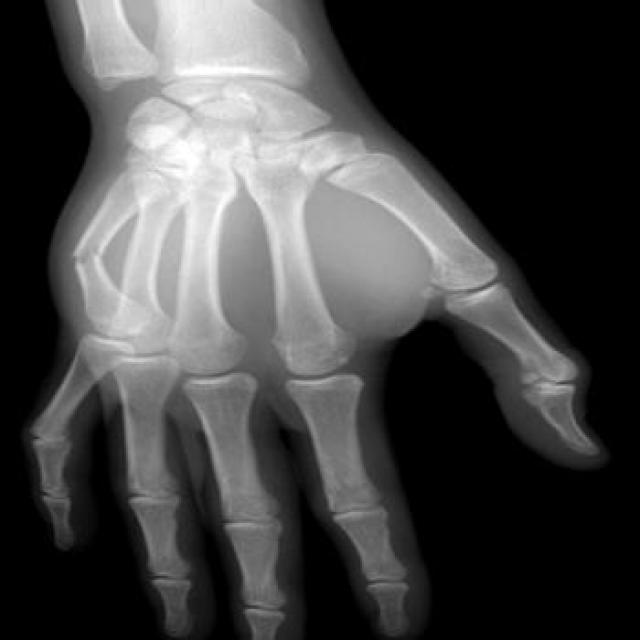Fracture: (63, 240, 114, 276)
